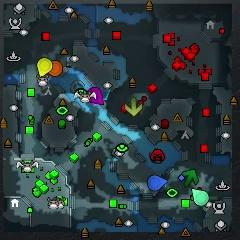p1: (148, 175, 167, 191)
p2: (192, 188, 208, 206)
p3: (88, 87, 104, 105)
p4: (37, 58, 52, 78)
p5: (46, 59, 63, 76)
x2: (125, 98, 142, 115)
x4: (182, 169, 198, 187)
